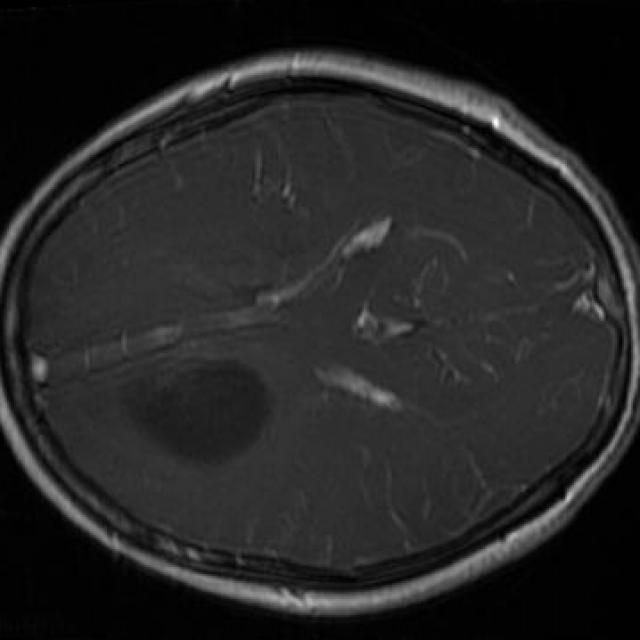glioma: (119, 362, 276, 467)
